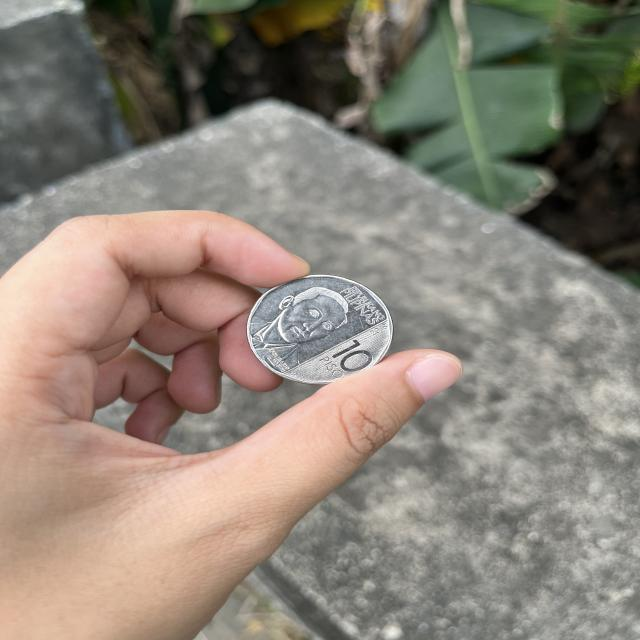10_New_Front: (316, 328, 374, 381)
